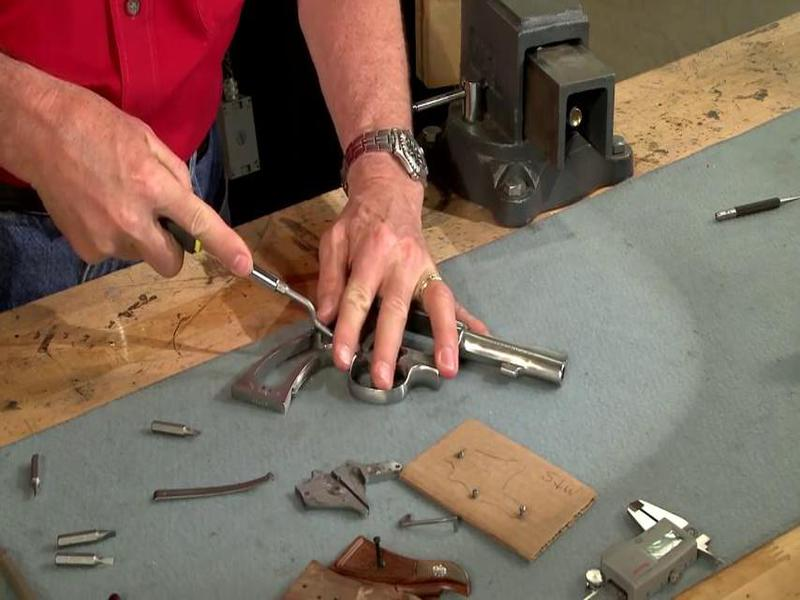Revolver: (217, 269, 553, 444)
